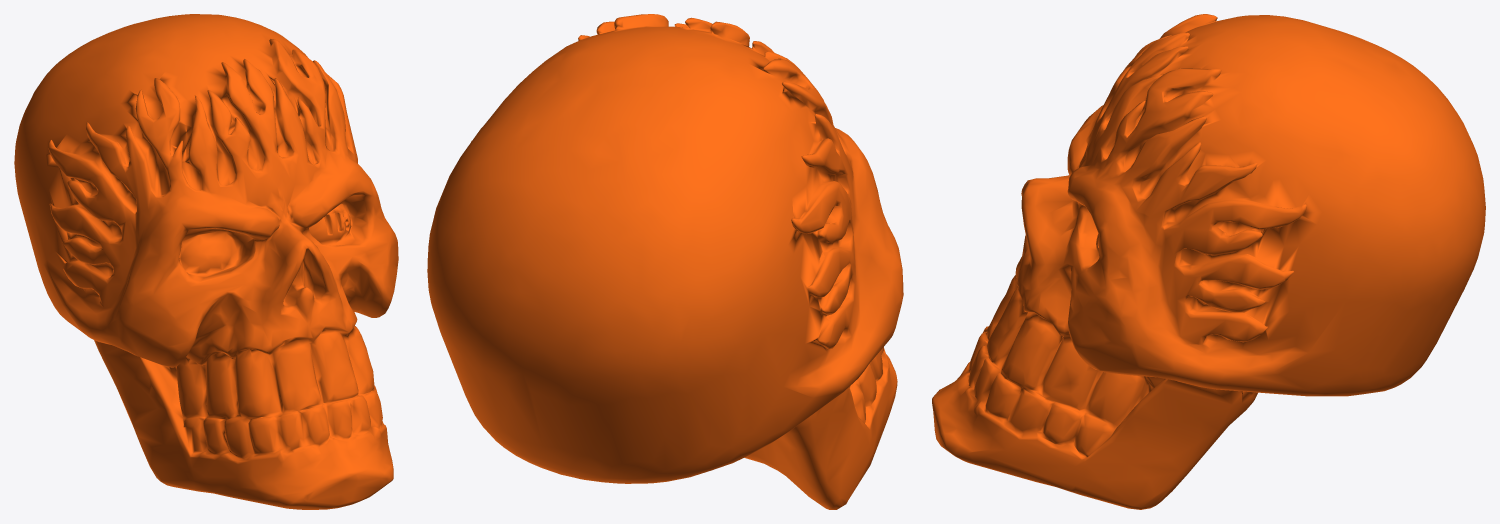
Rendered from skull.glb.
3 renders of one model, left to right at view 1: azimuth 30°, elevation 25°; view 2: azimuth 150°, elevation 25°; view 3: azimuth 270°, elevation 25°, orthographic. The views are drawn at different scales.
Parts seen in each view (by area): view 1: skull; view 2: skull; view 3: skull.
Boxes of the visible parts, x1,y1,x2,y2 form: skull: [14, 14, 398, 509]; skull: [427, 14, 903, 509]; skull: [932, 14, 1485, 509].
Size of the model in its own units: 16.38 by 22.07 by 25.93.
